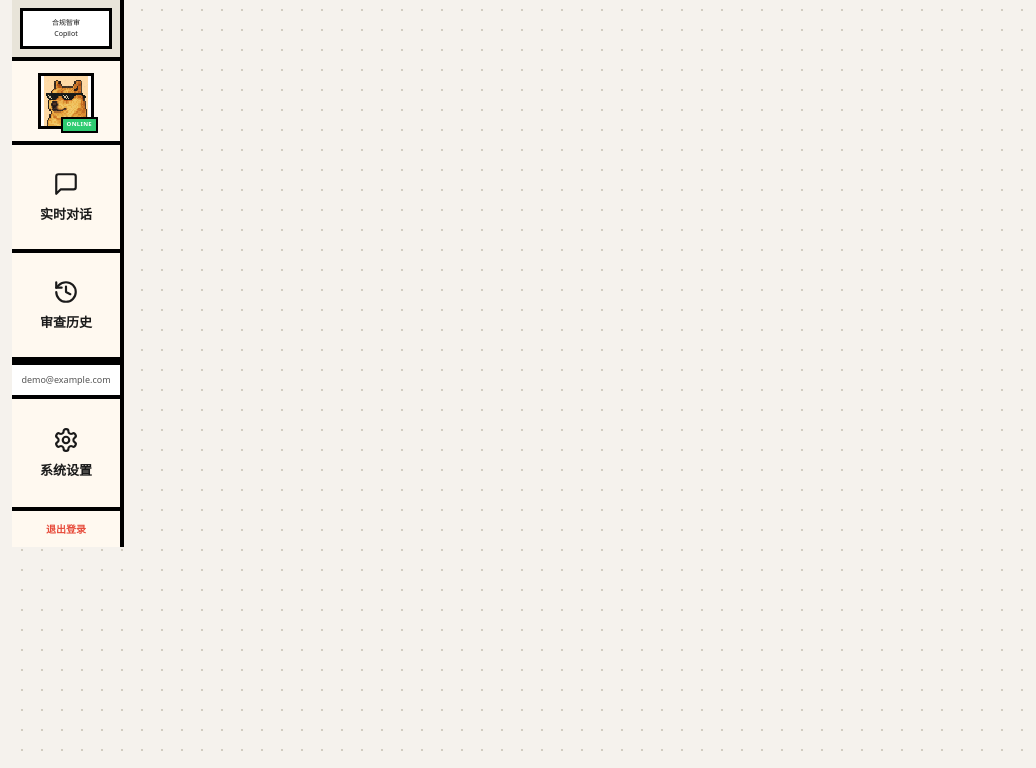
SideNav › shows history dropdown and closes it when switching back to chat
Click the button "审查历史" at (66, 307), box [12,253,120,361]
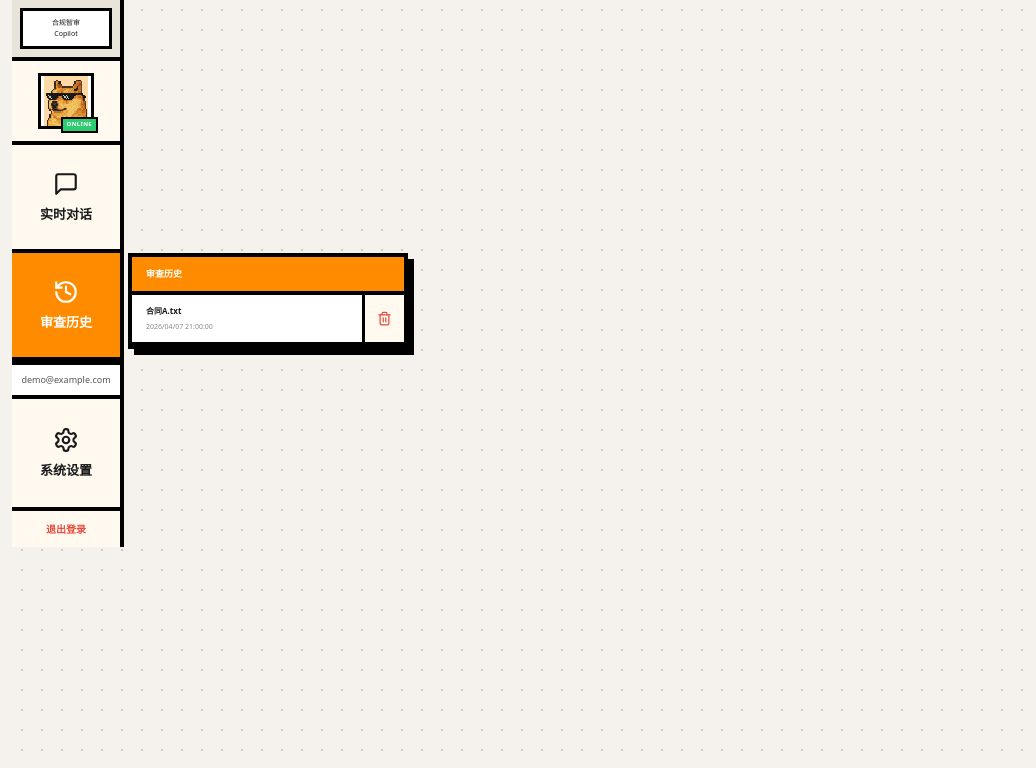
expect the text "合同A.txt" is shown: met, box [146,305,181,316]
Click the button "实时对话" at (66, 199), box [12,145,120,253]
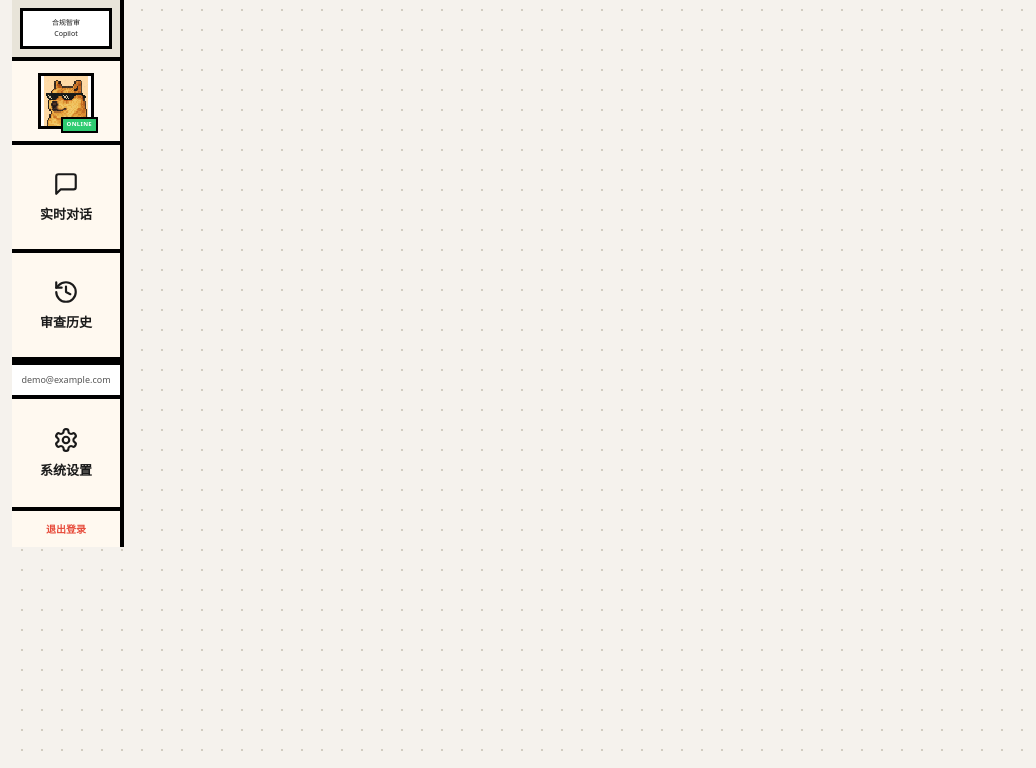
expect the button "合同A.txt" is gone: met
